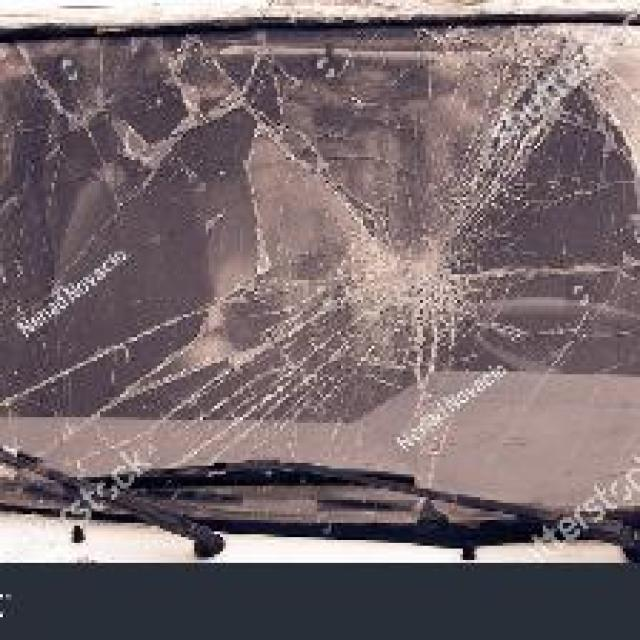glass_shatter_moderate: (0, 31, 637, 497)
